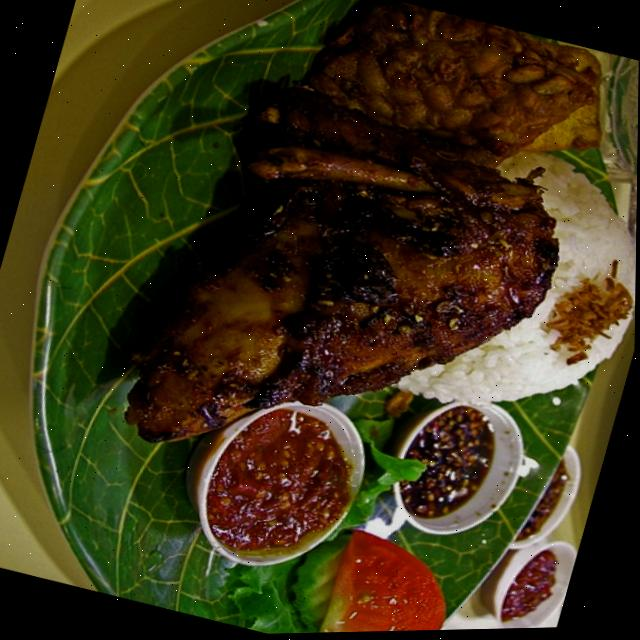鸡肉料理 含炸鸡: (45, 2, 640, 586)
